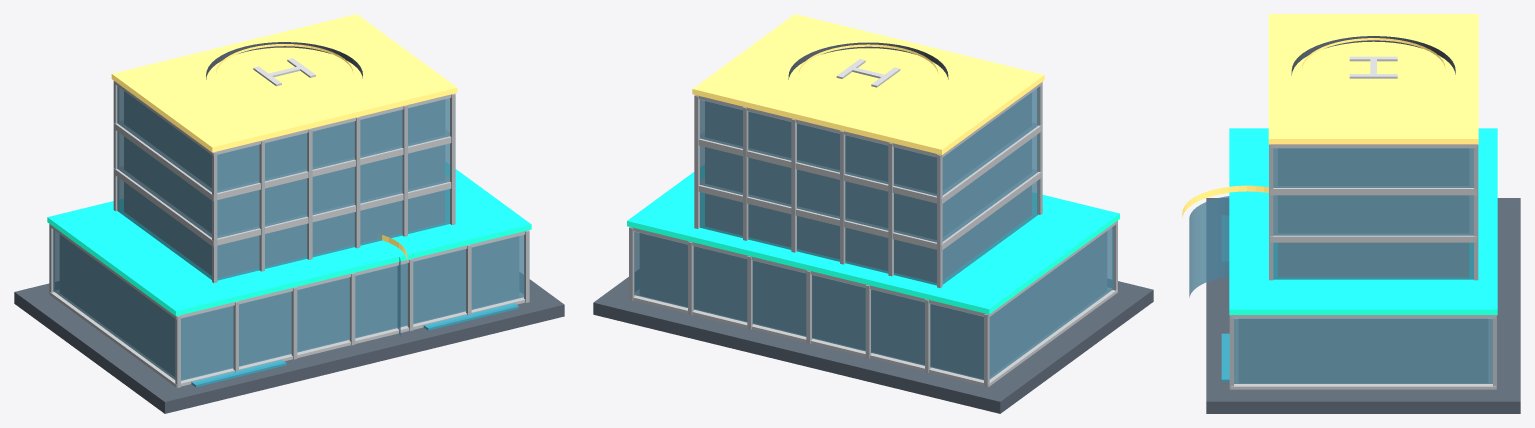
The model's file is club_hq.master.glb.
3 views of the same model, side by side, from view 1: azimuth 30°, elevation 25°; view 2: azimuth 150°, elevation 25°; view 3: azimuth 270°, elevation 25° (orthographic). The views are drawn at different scales.
Visible parts, largest first — view 1: club_hq_master; view 2: club_hq_master; view 3: club_hq_master.
Part boxes in pixels (box(x1,y1,x2,y2)): club_hq_master: box(14, 14, 564, 413); club_hq_master: box(593, 14, 1153, 413); club_hq_master: box(1182, 14, 1520, 413).
Size of the model in its own units: 2.82 by 1.59 by 1.98.
